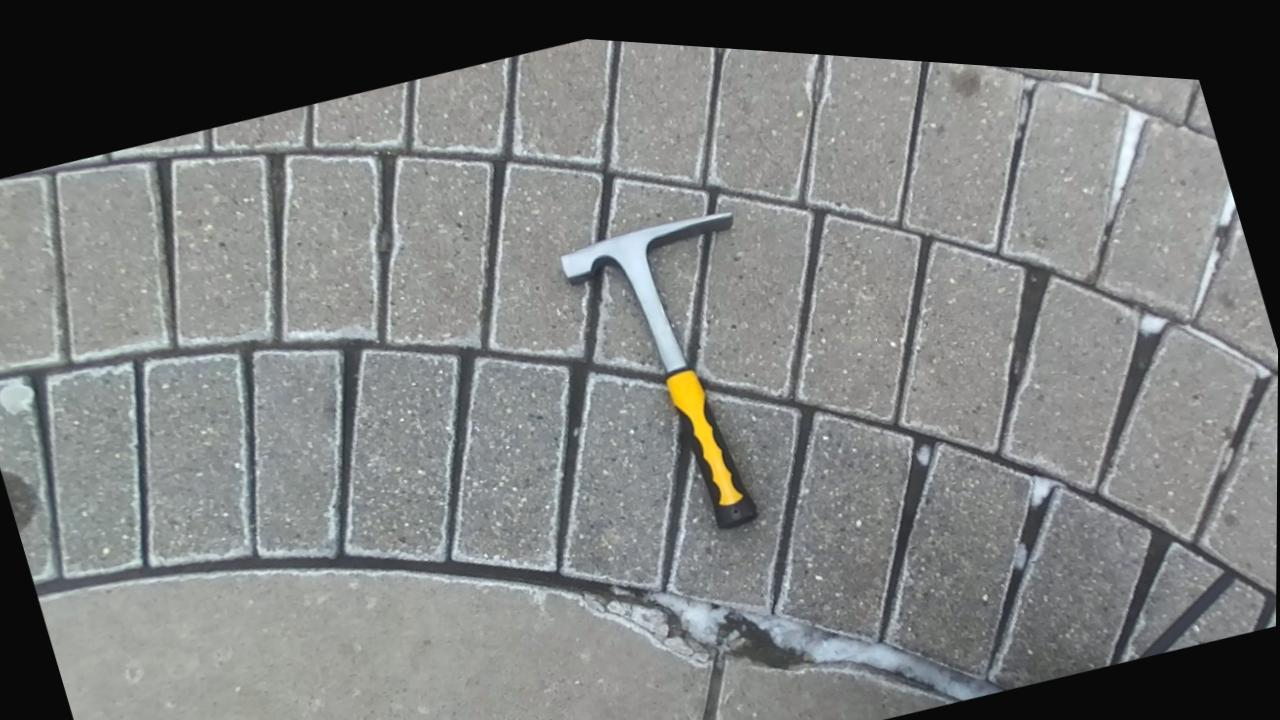pick: (560, 213, 755, 528)
